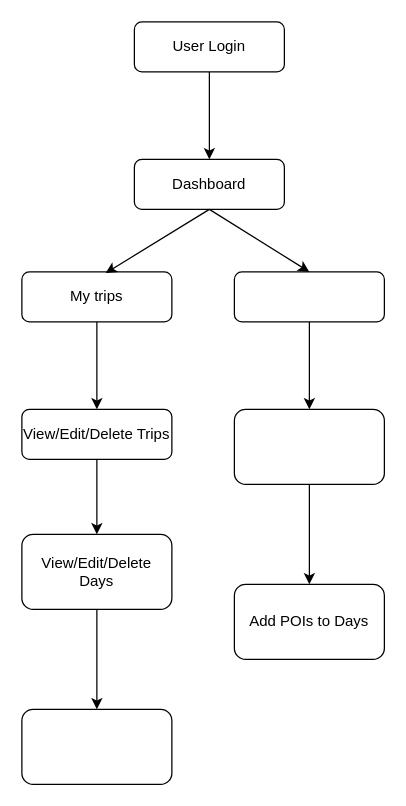
Some shapes in this 406 by 806 pixel diagram are drawn without their labels. The box of each missing label's shape, as (x1, y1, x2, y2) in pixels:
Add Days to Trip: (233, 408, 384, 484)
Add new trip: (233, 271, 384, 322)
View/Edit/Delete POIs: (21, 708, 172, 784)
